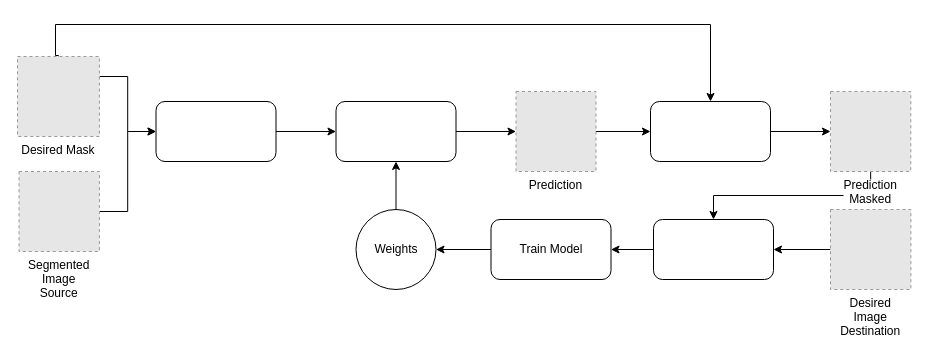
This 929x356 diagram has some shape labels left out. Grey dashed boxes stand in for pictures. The shapes that lost their labels are listed below. From the top down, each one's centre as x and y in pixels, then its label:
At pixel 215 131: "Concatenate".
At pixel 395 131: "Model forward".
At pixel 710 131: "Apply Mask".
At pixel 713 249: "Calculate Loss".
